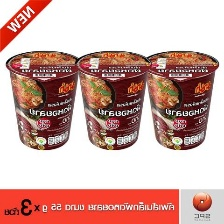paper_cup: (140, 44, 224, 155), (71, 45, 155, 155), (2, 45, 85, 155)
